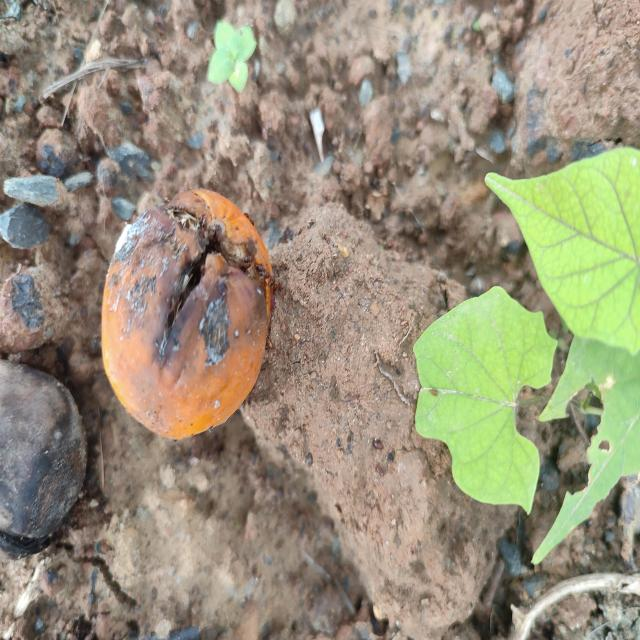damaged: (101, 190, 275, 439)
